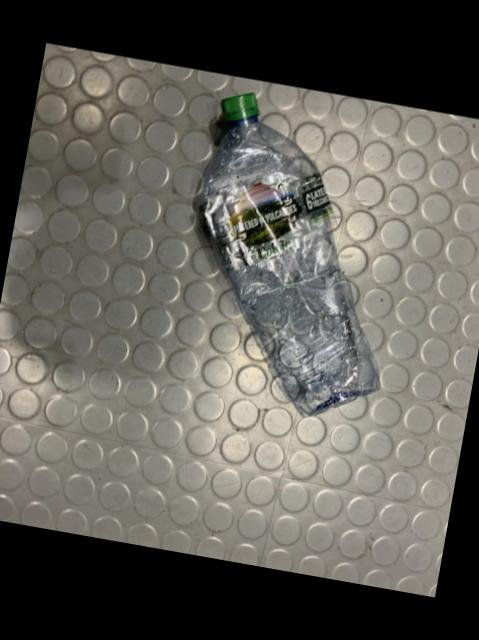plastic: (198, 92, 379, 414)
